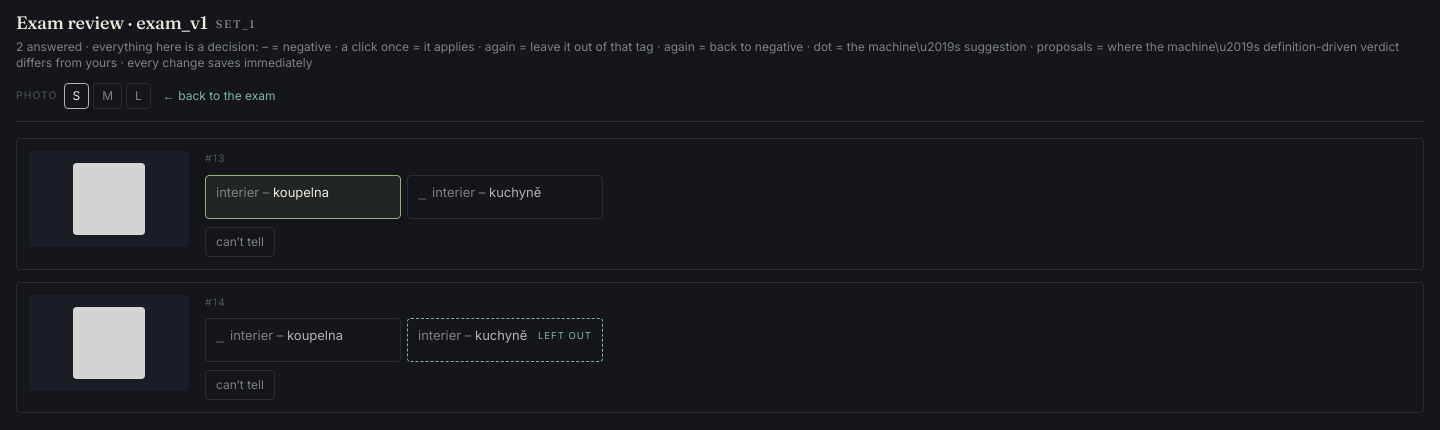
Test: <NewDedupExamReview> › a click re-answers the WHOLE image through the exam endpoint
The image size is (1440, 430).
Check: the text "2 answered" is shown, box [16, 39, 1424, 71]
Click the button with aria-label "interier - koupelna". click: coordinates (303, 197)
box: [205, 175, 401, 219]
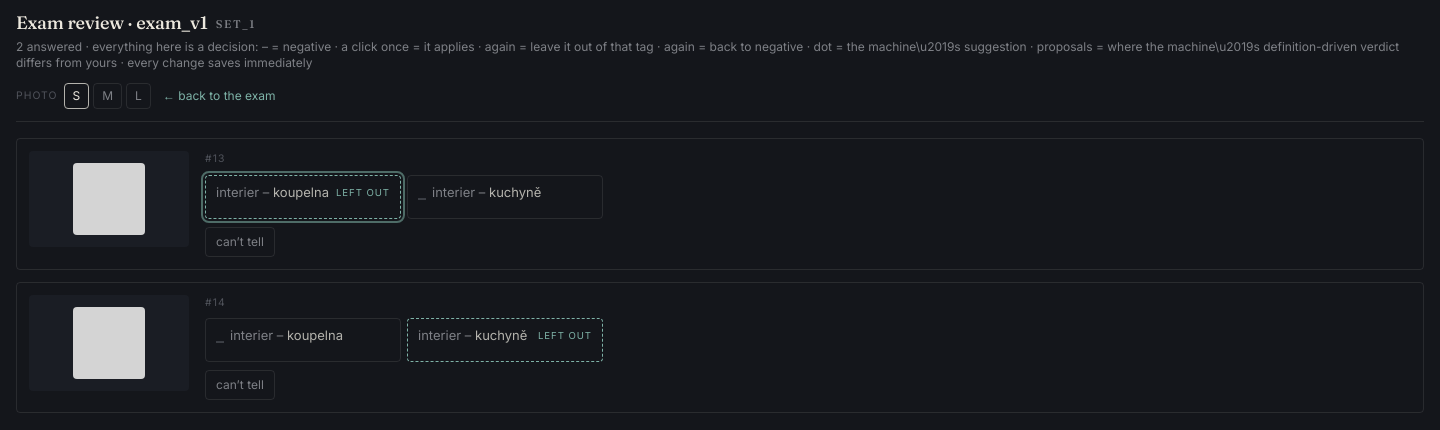
Check: the text "left out" is shown 2 times, box [336, 186, 390, 200]; [538, 329, 592, 344]
